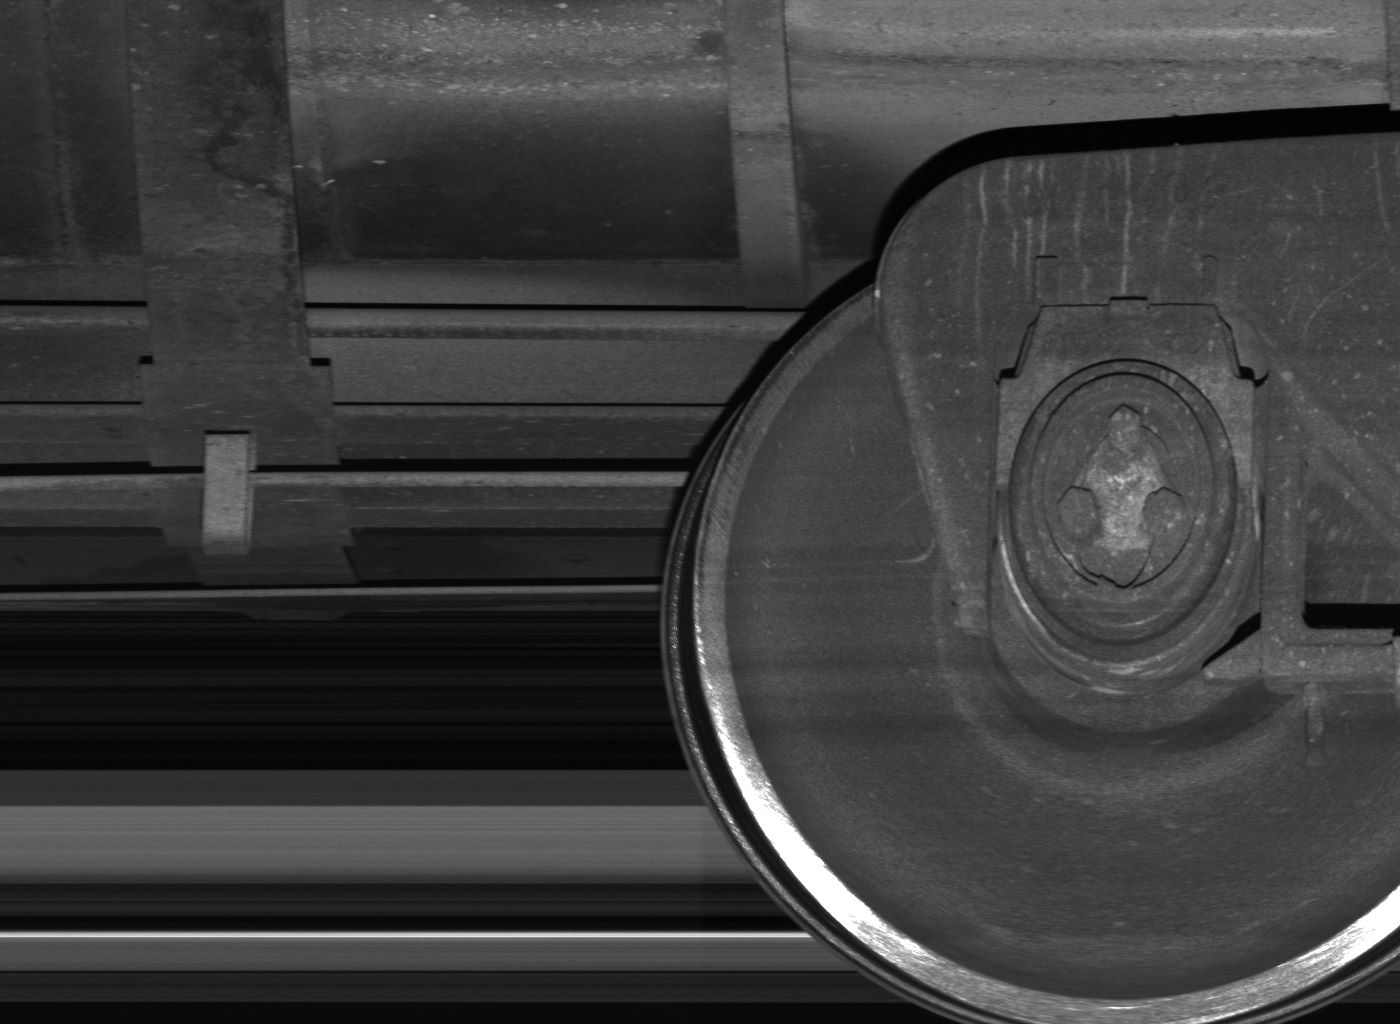normal: (203, 434, 254, 558)
